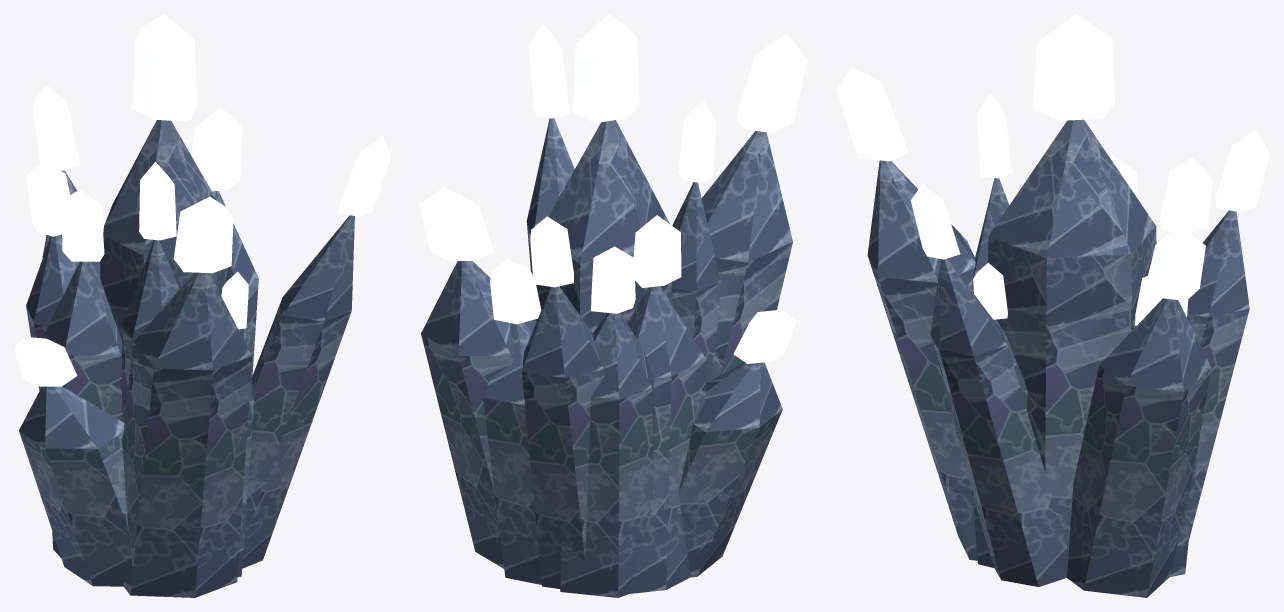
Rendered from Oracle_Crystal_Cluster_1.gltf.
3 renders of one model, left to right at view 1: azimuth 30°, elevation 25°; view 2: azimuth 150°, elevation 25°; view 3: azimuth 270°, elevation 25°, orthographic.
Visible parts, largest first — view 1: Oracle_Crystal_Cluster_1; view 2: Oracle_Crystal_Cluster_1; view 3: Oracle_Crystal_Cluster_1.
Boxes of the visible parts, <box> form: Oracle_Crystal_Cluster_1: <box>14,14,390,597</box>; Oracle_Crystal_Cluster_1: <box>419,14,807,597</box>; Oracle_Crystal_Cluster_1: <box>836,14,1269,597</box>.
Bounding box in the file's own units: 3 × 4.85 × 3.55.
Materials: 2 (2 with a texture image).
